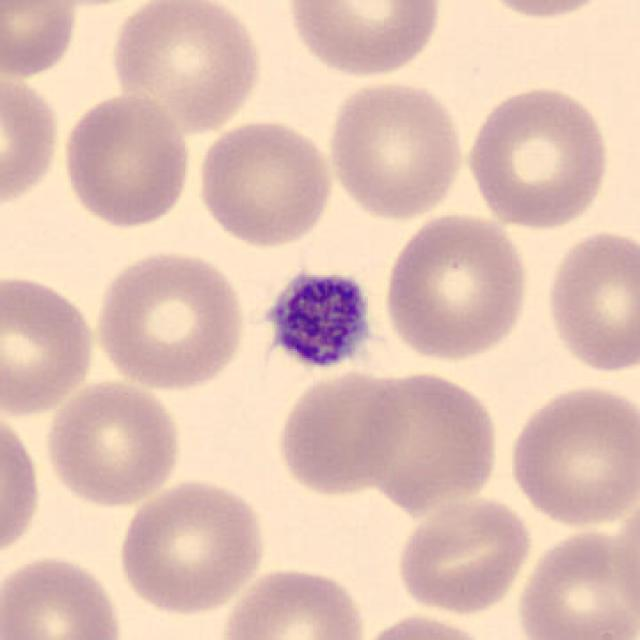Platelets: (256, 270, 378, 380)
RBC: (379, 208, 533, 365), (89, 245, 249, 393), (462, 79, 614, 231), (114, 474, 270, 619), (352, 367, 503, 515), (323, 74, 468, 222), (107, 0, 265, 134), (503, 379, 638, 531), (192, 114, 338, 250), (57, 88, 194, 229), (41, 376, 185, 510), (272, 365, 409, 499), (393, 494, 535, 617), (512, 522, 640, 640), (0, 270, 100, 418), (540, 226, 638, 377), (281, 0, 446, 81), (215, 562, 372, 640), (0, 550, 128, 640), (0, 69, 64, 215), (0, 401, 44, 569), (0, 0, 82, 81), (352, 610, 498, 640), (470, 0, 620, 23)
